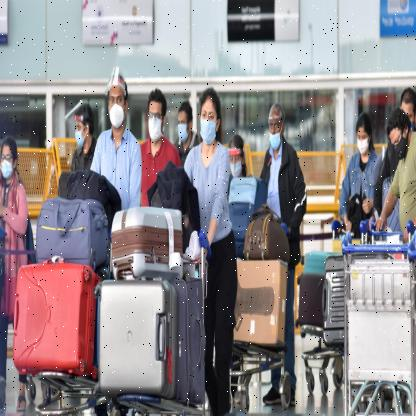airport-trolley: (113, 224, 211, 416), (341, 236, 416, 416), (300, 218, 366, 398), (34, 362, 114, 416)
